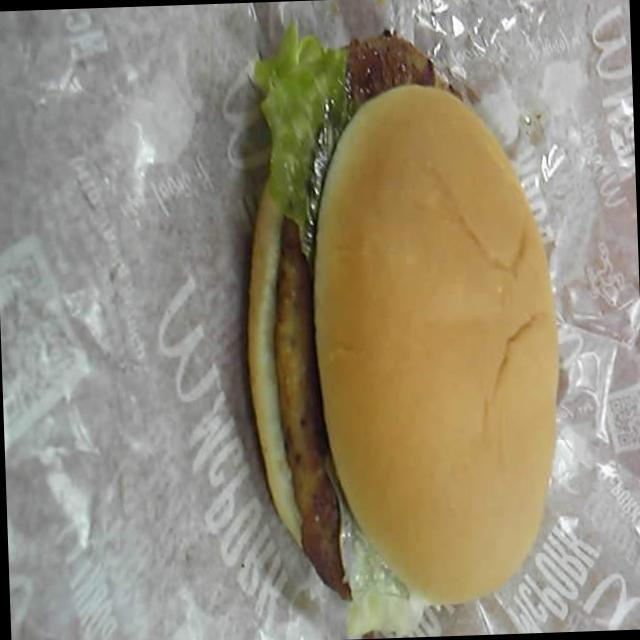Hamburger: (230, 23, 573, 627)
